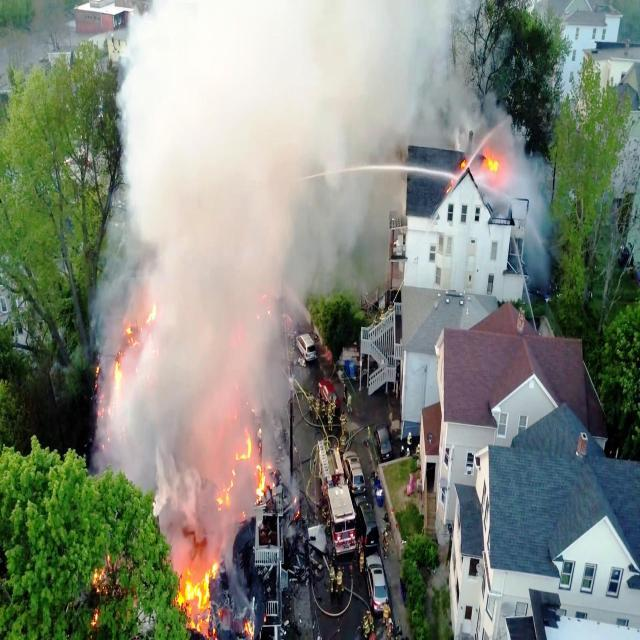Fire: (217, 425, 268, 512), (182, 547, 220, 621)
Smoke: (144, 6, 258, 393)
